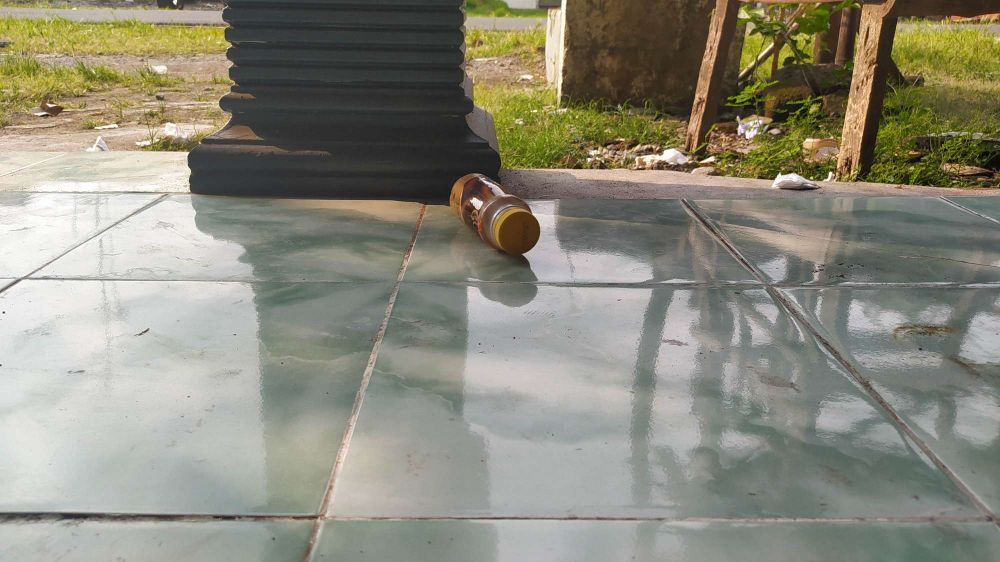botol: (442, 146, 549, 268)
